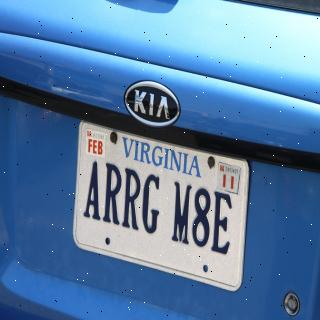license: (73, 119, 244, 293)
